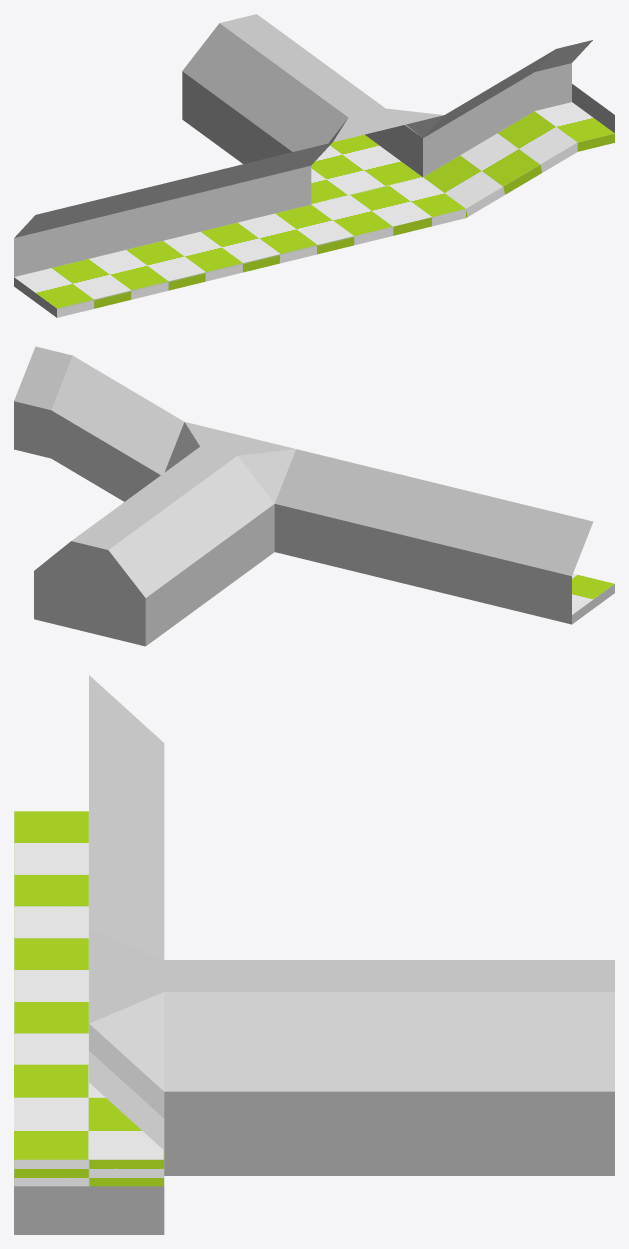
The model's file is testlvl_a.fbx.
3 views of the same model, one above another, from view 1: azimuth 30°, elevation 25°; view 2: azimuth 150°, elevation 25°; view 3: azimuth 270°, elevation 25° (orthographic). The views are drawn at different scales.
Visible parts, largest first — view 1: Cube; view 2: Cube; view 3: Cube.
Part boxes in pixels (left/top/right/bottom): Cube: left=14, top=14, right=614, bottom=317; Cube: left=14, top=346, right=614, bottom=646; Cube: left=14, top=675, right=614, bottom=1234.
Bounding box in the file's own units: 1498 × 324 × 800.
